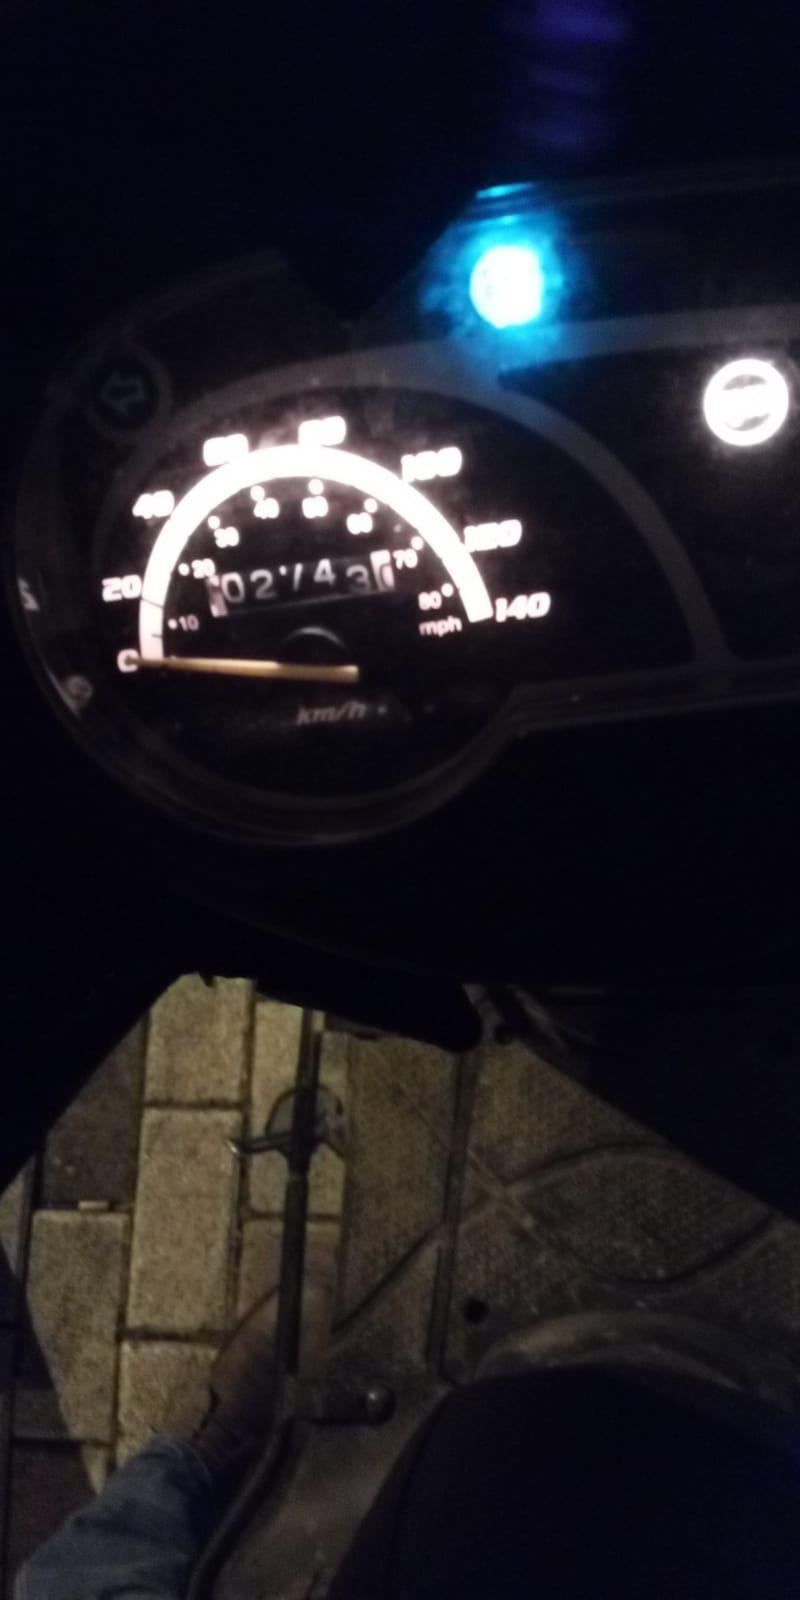0: (377, 558, 398, 604), (221, 569, 246, 606), (203, 553, 215, 577)
2: (251, 567, 279, 604)
3: (342, 560, 374, 601)
4: (312, 559, 337, 586)
7: (279, 560, 307, 595)
odometer: (204, 547, 400, 627)
